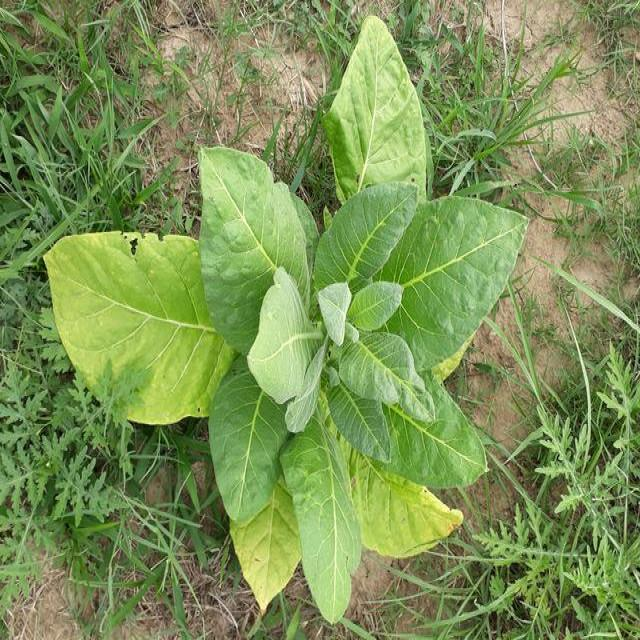crop: (205, 197, 468, 527), (228, 458, 436, 559), (48, 244, 214, 356), (354, 76, 416, 212)
